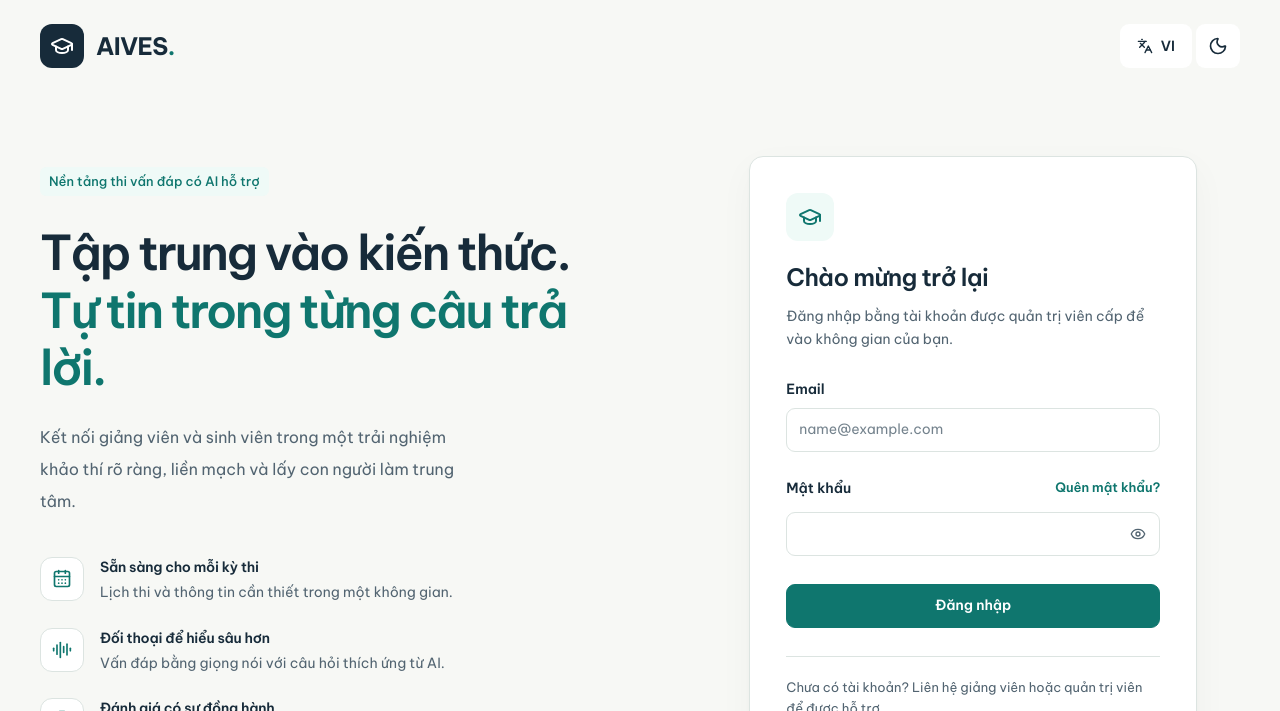
Test: authentication exceptions › preserves the real failure: Email or password is incorrect
This screenshot has width=1280, height=711.
Type "a@example.com" into the field labelled "Email" at {"x": 973, "y": 430}, box [786, 408, 1160, 452]
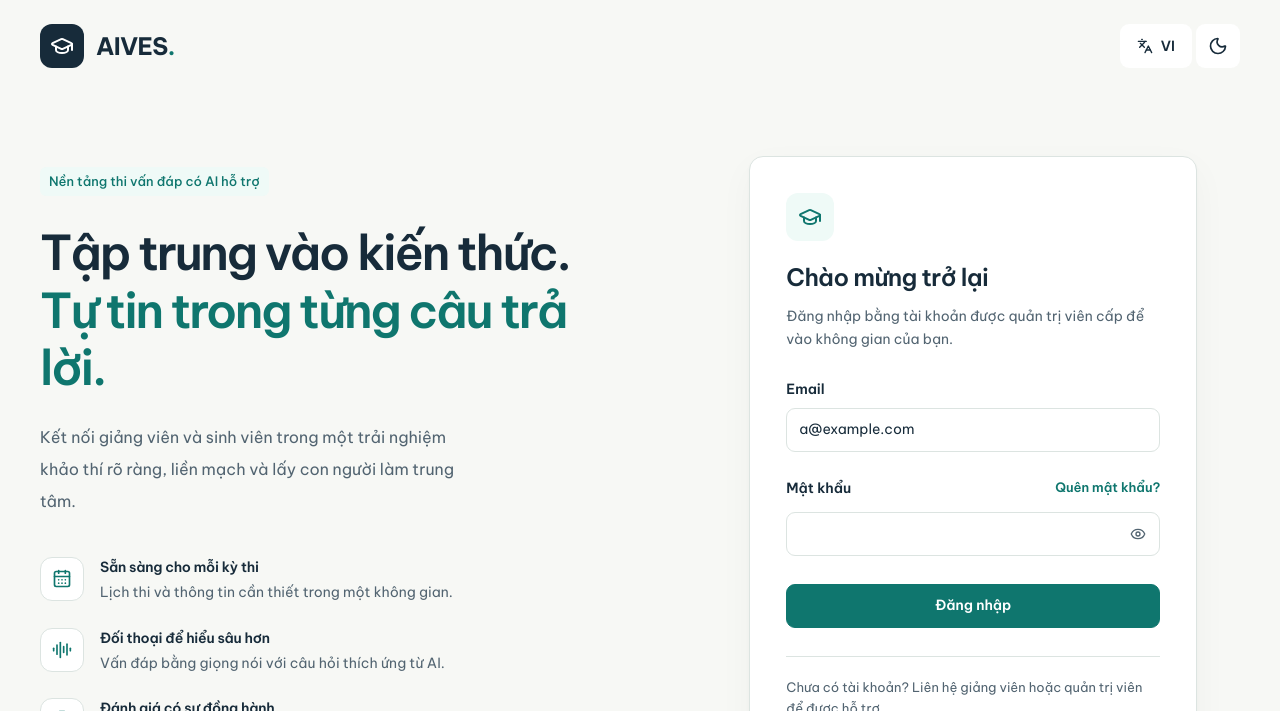
Type " password123 " into the password field labelled "Mật khẩu" at {"x": 973, "y": 534}, box [786, 512, 1160, 556]
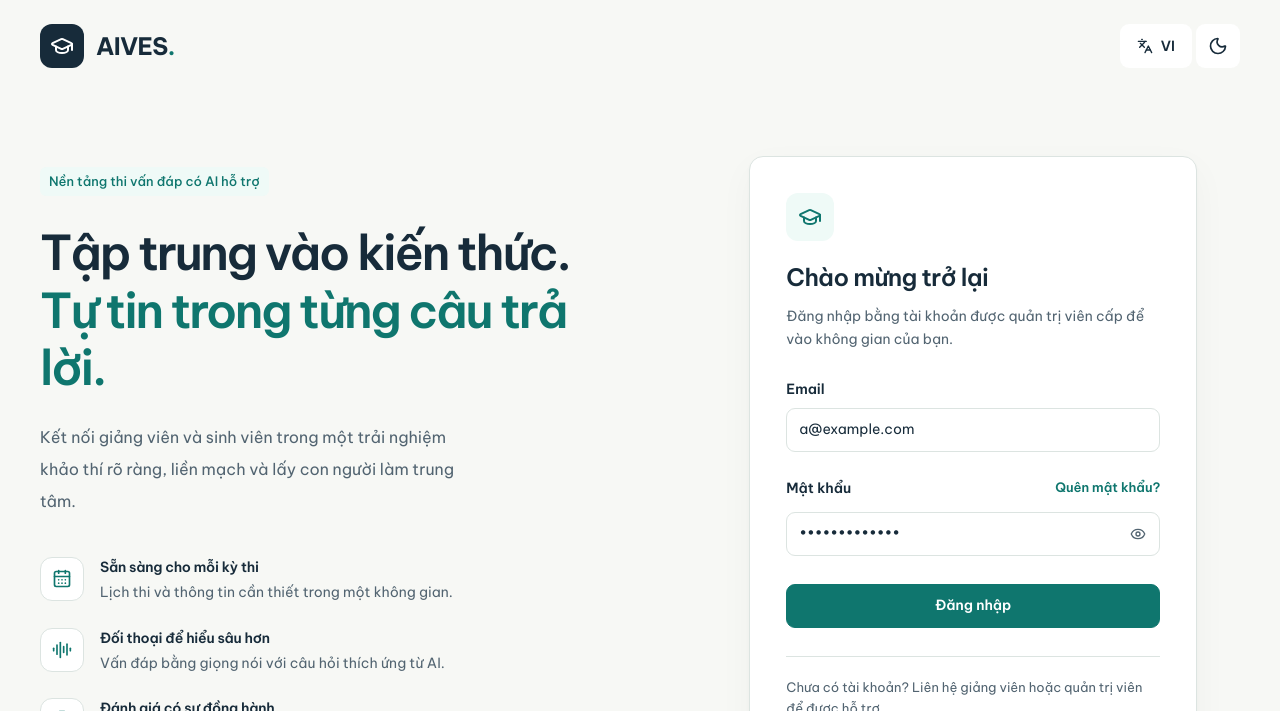
Submit the form, box [786, 378, 1160, 628]
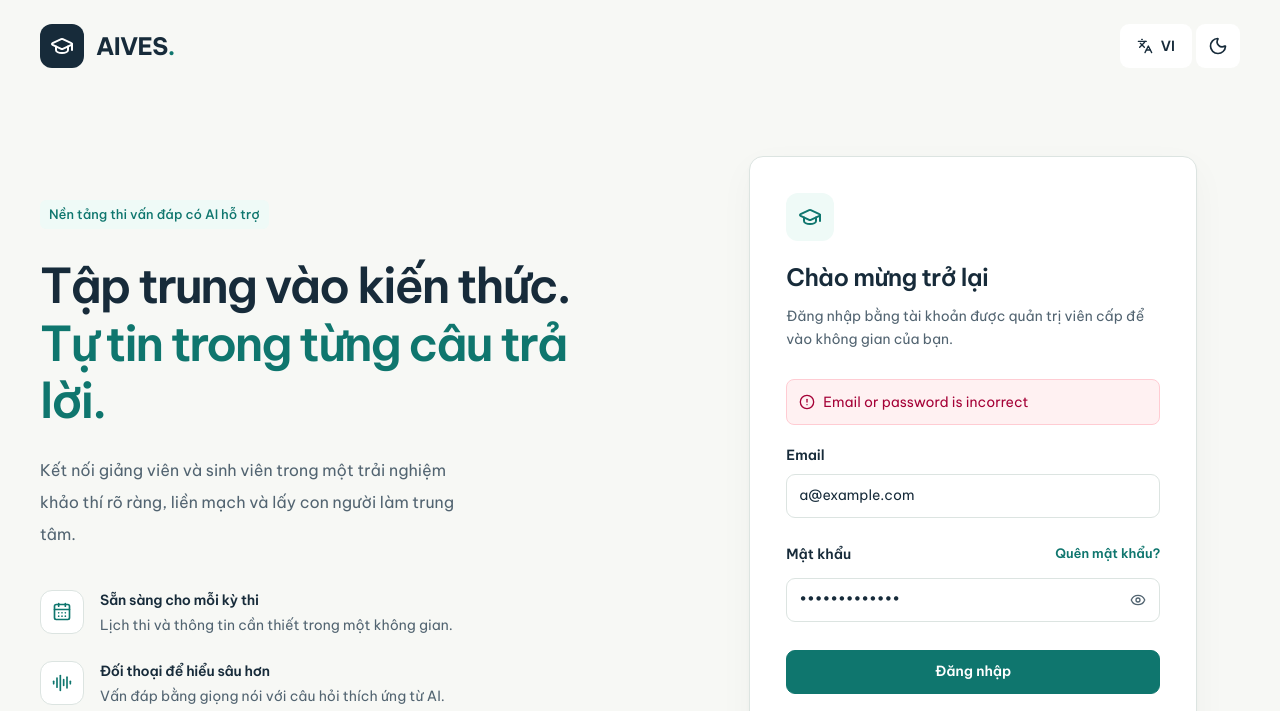
Check: the button "Đăng nhập" is enabled, box [786, 650, 1160, 694]
Check: the message reads "Email or password is incorrect", box [823, 392, 1028, 410]
